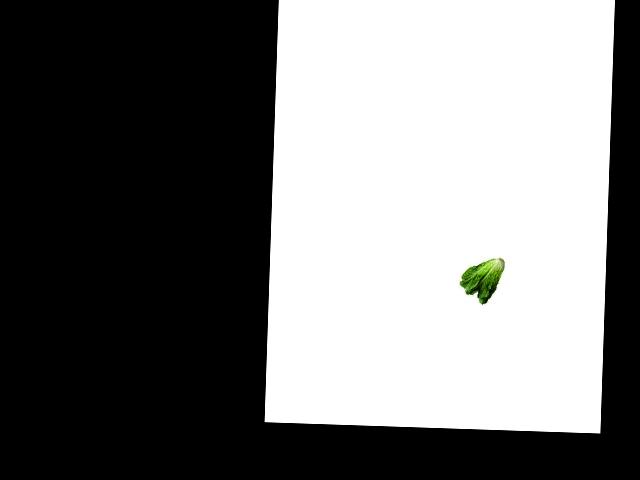lettuce: (453, 254, 505, 304)
